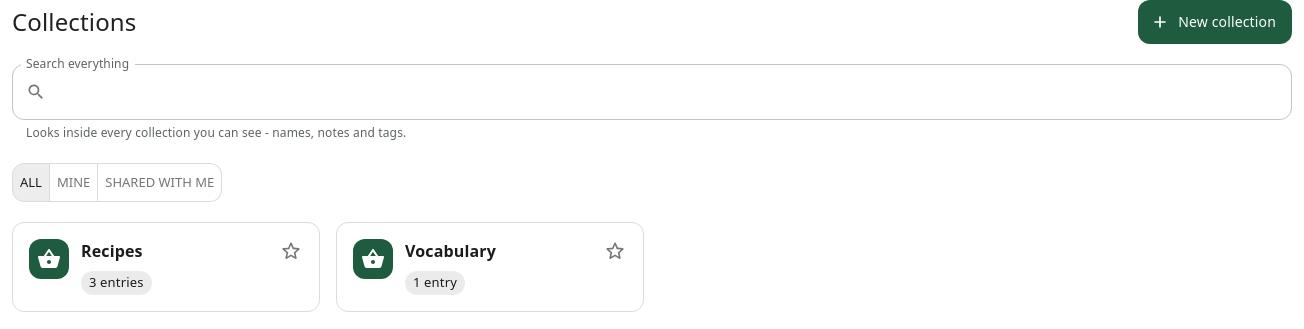
CollectionsPage › searches across every collection and says where each hit came from
This screenshot has width=1304, height=329.
Type "tiramisu" into the field labelled "Search everything" at (673, 92), box [54,64,1292,120]
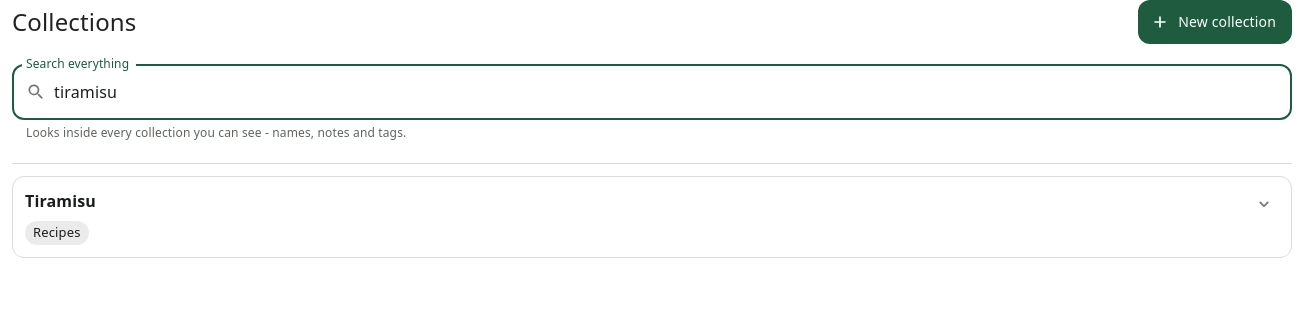
Expected: the link "Recipes" is shown, [25,221,89,245]
Now the text "Tiramisu" is shown, box [25,190,96,212]
